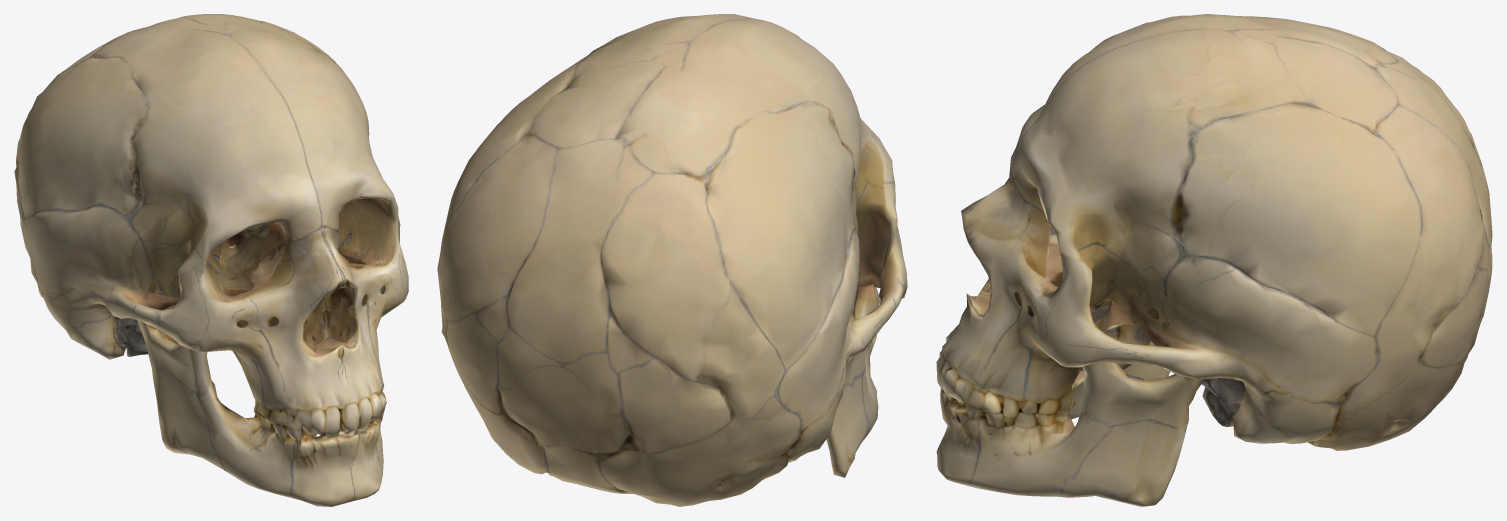
File: skull.glb
The picture shows the model from 3 angles, left to right: view 1: azimuth 30°, elevation 25°; view 2: azimuth 150°, elevation 25°; view 3: azimuth 270°, elevation 25°; orthographic projection. The views are drawn at different scales.
Size of the model in its own units: 1.46 by 1.75 by 2.
1 material, 1 textured.
